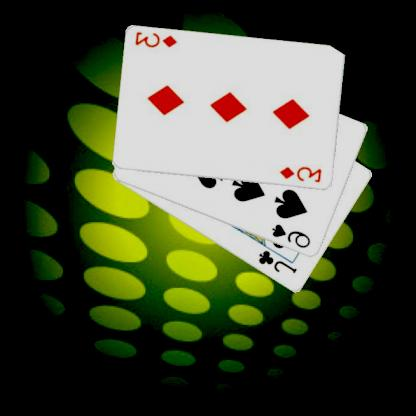3D: (134, 29, 181, 50), (279, 164, 325, 185)
9S: (270, 221, 314, 250)
JC: (257, 248, 300, 276)
